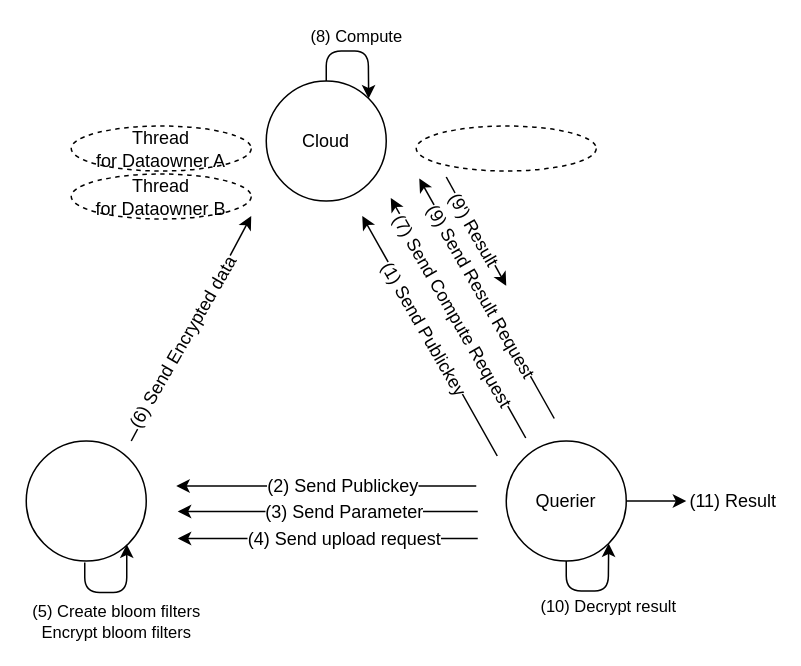
Some shapes in this 801 by 666 pixel diagram are drawn without their labels. The centre of each missing label's shape, as x and y in pixels:
Dataowner A/B: [85,500]
Thread for Querier: [505,147]
